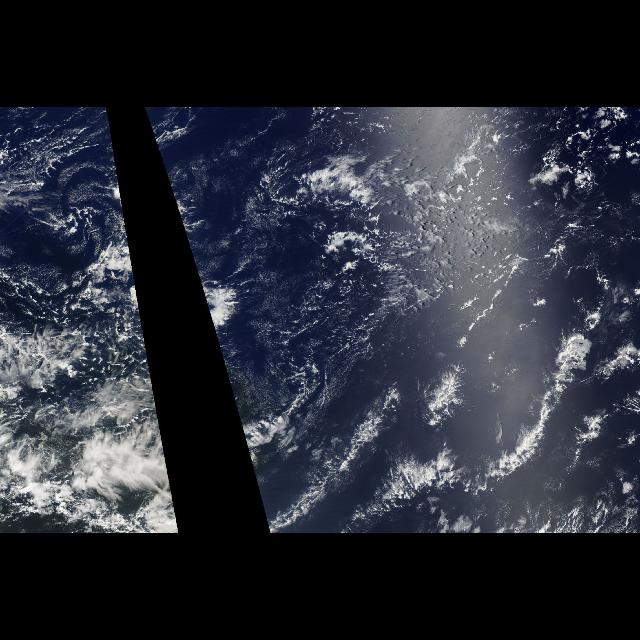Fish: (262, 316, 626, 524)
Gravel: (250, 128, 542, 294)
Sugar: (202, 116, 446, 414)
